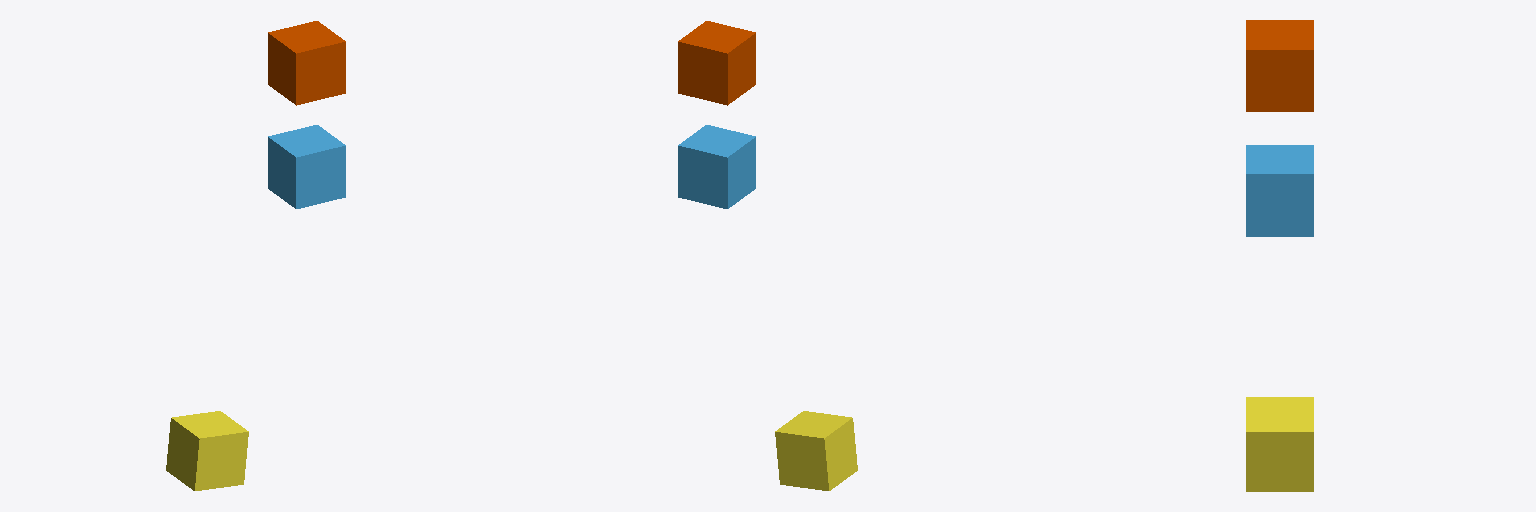
robot.urdf — r03:
<robot name="r03">
<link name="base_link"/>
<link name="arm"><visual><origin xyz="0 0 0" rpy="0 0 0"/><geometry><box size="0.1 0.1 0.1"/></geometry></visual><collision><origin xyz="0 0 0" rpy="0 0 0"/><geometry><box size="0.1 0.1 0.1"/></geometry></collision></link>
<link name="slider"><visual><origin xyz="0 0 0" rpy="0 0 0"/><geometry><box size="0.1 0.1 0.1"/></geometry></visual><collision><origin xyz="0 0 0" rpy="0 0 0"/><geometry><box size="0.1 0.1 0.1"/></geometry></collision></link>
<link name="follower"><visual><origin xyz="0 0 0" rpy="0 0 0"/><geometry><box size="0.1 0.1 0.1"/></geometry></visual><collision><origin xyz="0 0 0" rpy="0 0 0"/><geometry><box size="0.1 0.1 0.1"/></geometry></collision></link>
<link name="chain"><visual><origin xyz="0 0 0" rpy="0 0 0"/><geometry><box size="0.1 0.1 0.1"/></geometry></visual><collision><origin xyz="0 0 0" rpy="0 0 0"/><geometry><box size="0.1 0.1 0.1"/></geometry></collision></link>
<link name="tip"><visual><origin xyz="0 0 0" rpy="0 0 0"/><geometry><box size="0.1 0.1 0.1"/></geometry></visual><collision><origin xyz="0 0 0" rpy="0 0 0"/><geometry><box size="0.1 0.1 0.1"/></geometry></collision></link>
<joint name="main" type="revolute"><parent link="base_link"/><child link="arm"/><origin xyz="0.2 0 0.5"/><axis xyz="1 1 1"/><limit lower="-1" upper="1" effort="1" velocity="2"/></joint>
<joint name="slide" type="prismatic"><parent link="arm"/><child link="slider"/><origin xyz="0 0 0"/><axis xyz="1 0 0"/><limit lower="0" upper="1" effort="1" velocity="0.5"/></joint>
<joint name="mimic" type="continuous"><parent link="base_link"/><child link="follower"/><origin xyz="0 0 0"/><axis xyz="0 1 0"/><mimic joint="main" multiplier="2" offset="0.1"/></joint>
<joint name="mimic_chain" type="continuous"><parent link="follower"/><child link="chain"/><origin xyz="0 0 0"/><axis xyz="0 1 0"/><mimic joint="mimic" multiplier="0.5" offset="0.2"/></joint>
<joint name="fixed" type="fixed"><parent link="slider"/><child link="tip"/><origin xyz="0 0 0.2"/><axis xyz="0 1 0"/></joint>
</robot>

--- Facts derived from the render (not from the file) ---
3 views of the same robot in one strip: view 1: azimuth 30°, elevation 25°; view 2: azimuth 150°, elevation 25°; view 3: azimuth 270°, elevation 25° (orthographic).
Model r03 with 6 links and 5 joints (1 revolute, 2 continuous, 1 prismatic, 1 fixed), rooted at base_link, posed every joint at zero.
Visible links, largest first — view 1: tip, arm, follower; view 2: tip, arm, follower; view 3: follower, arm, tip.
Link boxes in pixels (left/top/right/bottom): tip: left=268, top=21, right=345, bottom=105; arm: left=268, top=125, right=345, bottom=208; follower: left=166, top=411, right=248, bottom=490; tip: left=678, top=21, right=755, bottom=105; arm: left=678, top=125, right=755, bottom=208; follower: left=775, top=411, right=857, bottom=490; follower: left=1246, top=397, right=1313, bottom=491; arm: left=1246, top=145, right=1313, bottom=236; tip: left=1246, top=20, right=1313, bottom=111.
Size in the robot's own frame: 0.3047 by 0.1 by 0.8047 metres.
Geometry: primitives only (box / cylinder / sphere), no mesh files.
